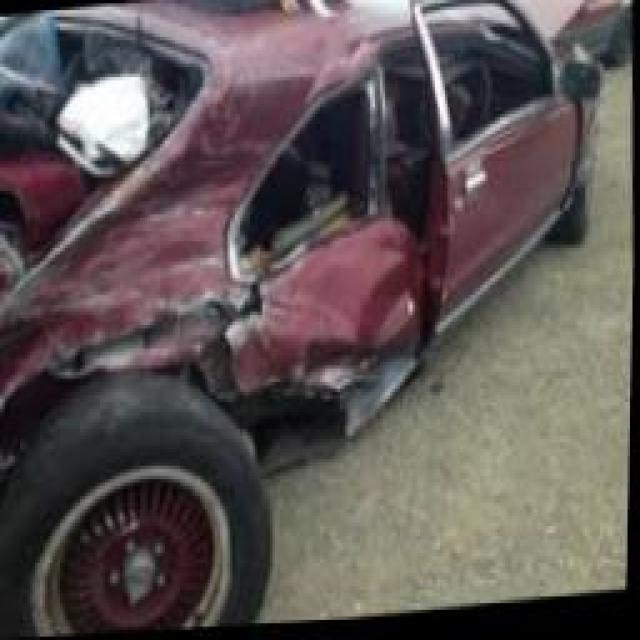Door: (248, 90, 409, 450)
Fender: (22, 40, 330, 316)
Windshield: (0, 23, 189, 186)
